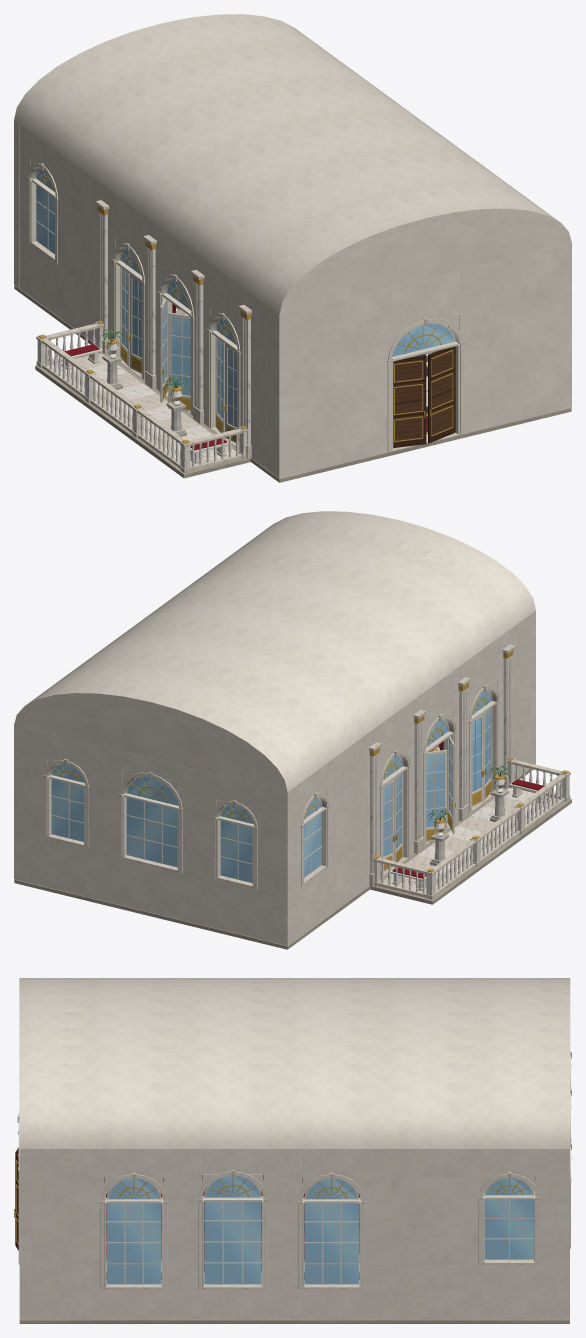
Rendered from rofan_imperial_palace_hall_balcony.glb.
3 views of the same model, one above another, from view 1: azimuth 30°, elevation 25°; view 2: azimuth 150°, elevation 25°; view 3: azimuth 270°, elevation 25° (orthographic). The views are drawn at different scales.
Parts seen in each view (by area): view 1: BG_Ceiling, BG_Wall_South, BG_Wall_West, BG_Floor, BG_Props_Clutter, BG_Wall_North, BG_Furniture_Hero; view 2: BG_Ceiling, BG_Wall_North, BG_Wall_West, BG_Floor, BG_Props_Clutter, BG_Wall_South, BG_Furniture_Hero; view 3: BG_Ceiling, BG_Wall_East, BG_Floor, BG_Wall_South, BG_Wall_North.
Boxes of the visible parts, x1=… form: BG_Ceiling: x1=14, y1=14, x2=571, y2=314; BG_Wall_South: x1=273, y1=215, x2=571, y2=478; BG_Wall_West: x1=20, y1=124, x2=273, y2=473; BG_Floor: x1=14, y1=285, x2=571, y2=482; BG_Props_Clutter: x1=98, y1=308, x2=190, y2=436; BG_Wall_North: x1=14, y1=120, x2=19, y2=288; BG_Furniture_Hero: x1=61, y1=324, x2=452, y2=463; BG_Ceiling: x1=14, y1=511, x2=535, y2=791; BG_Wall_North: x1=14, y1=699, x2=292, y2=945; BG_Wall_West: x1=293, y1=614, x2=530, y2=941; BG_Floor: x1=14, y1=747, x2=571, y2=949; BG_Props_Clutter: x1=427, y1=747, x2=511, y2=865; BG_Wall_South: x1=436, y1=610, x2=535, y2=764; BG_Furniture_Hero: x1=135, y1=777, x2=546, y2=890; BG_Ceiling: x1=19, y1=978, x2=570, y2=1148; BG_Wall_East: x1=31, y1=1149, x2=558, y2=1319; BG_Floor: x1=19, y1=1177, x2=569, y2=1323; BG_Wall_South: x1=14, y1=1113, x2=31, y2=1319; BG_Wall_North: x1=558, y1=1051, x2=571, y2=1319.
Bounding box in the file's own units: 14 × 8.5 × 18.07.
4 materials, 4 textured.
